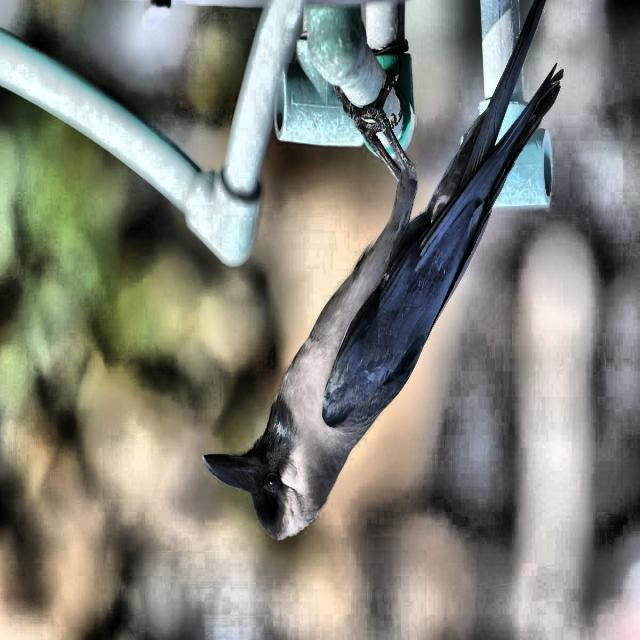crow: (199, 30, 592, 549)
